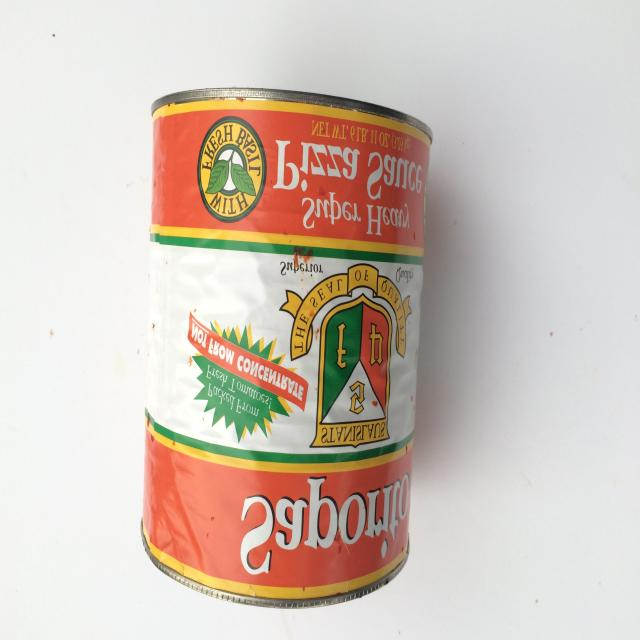metal: (140, 86, 434, 609)
